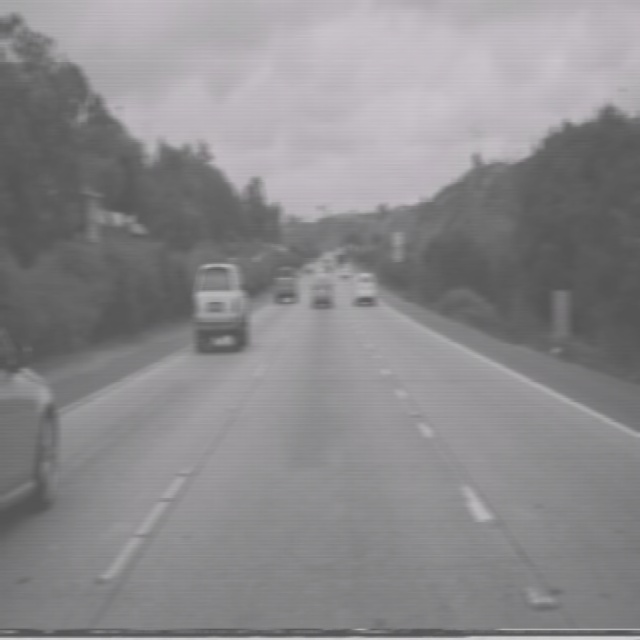speedLimit65: (392, 229, 403, 255)
